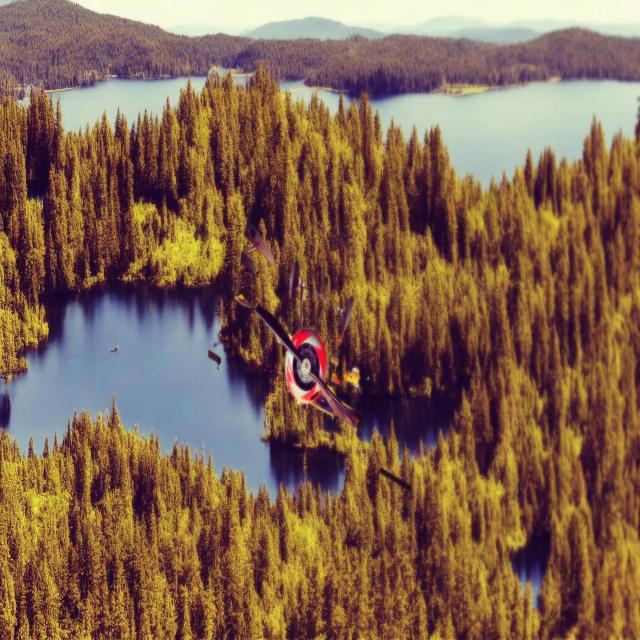airplane: (234, 258, 362, 429)
